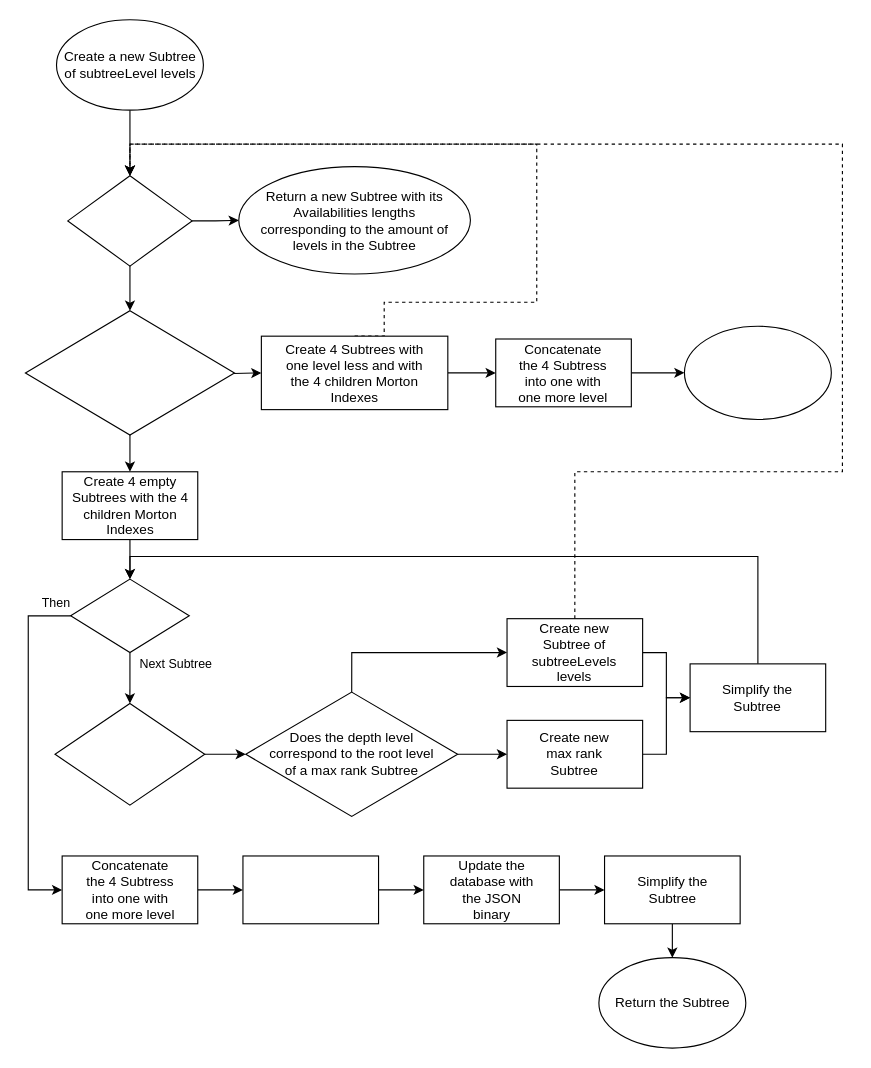
Image size: 871x1068. Some labels were removed from this diagram. The box of each missing label's shape, as (x1, y1, x2, y2) in pixels:
Create a JSON binary from the Subtree: (242, 855, 379, 924)
Do we compute every Subtrees?: (54, 702, 205, 805)
For every Subtrees: (69, 578, 189, 653)
Is the amount of level in the requested Subtree 1?: (24, 310, 234, 435)
Is there buildings in the tile?: (67, 175, 192, 266)
Return the concatenation of the 4 Subtress into one with one more level: (683, 325, 831, 419)
